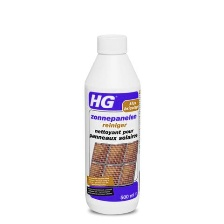cleaning_solution: (78, 32, 143, 216)
